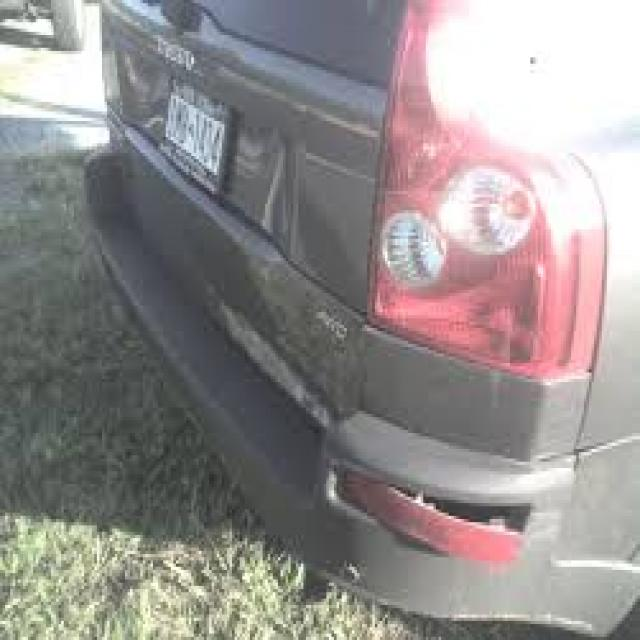minor: (328, 463, 572, 565)
